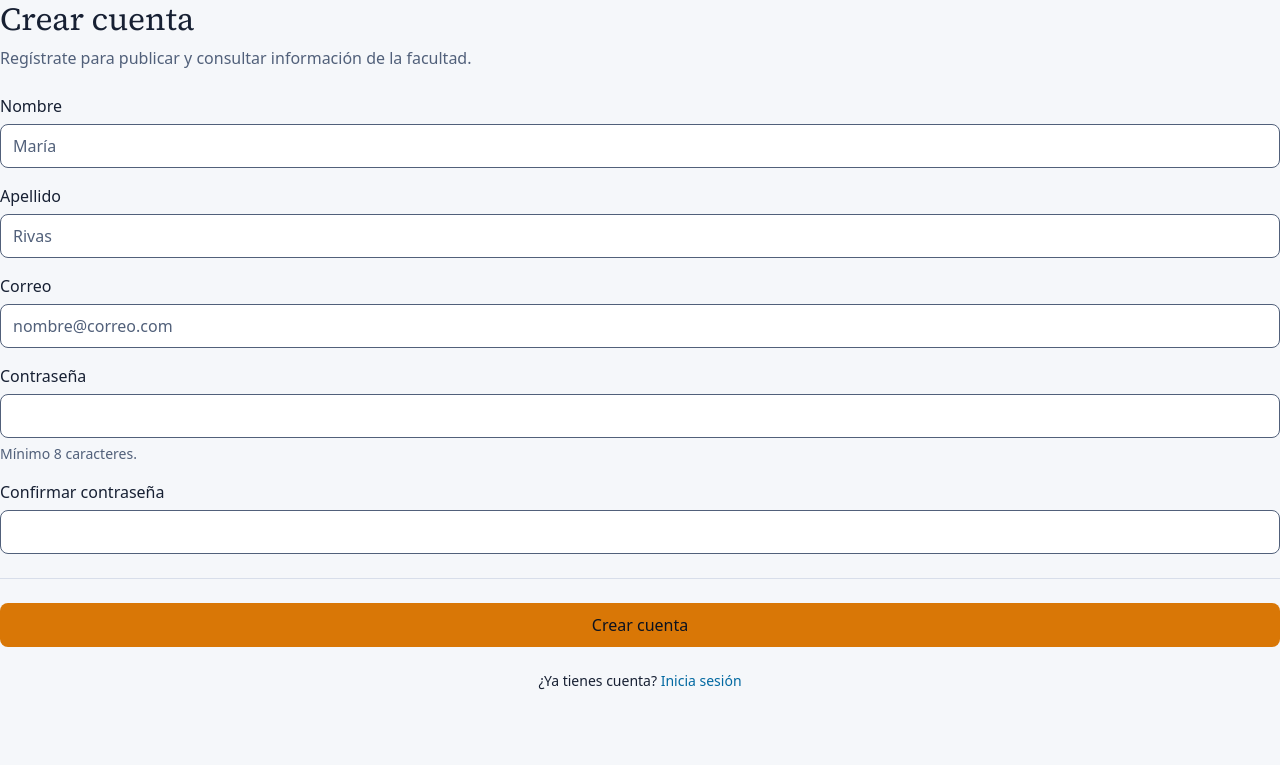
RegisterForm › handles existing email error without emptying password
Type "John" into the field labelled "Nombre". click: (640, 146)
box: [0,124,1279,168]
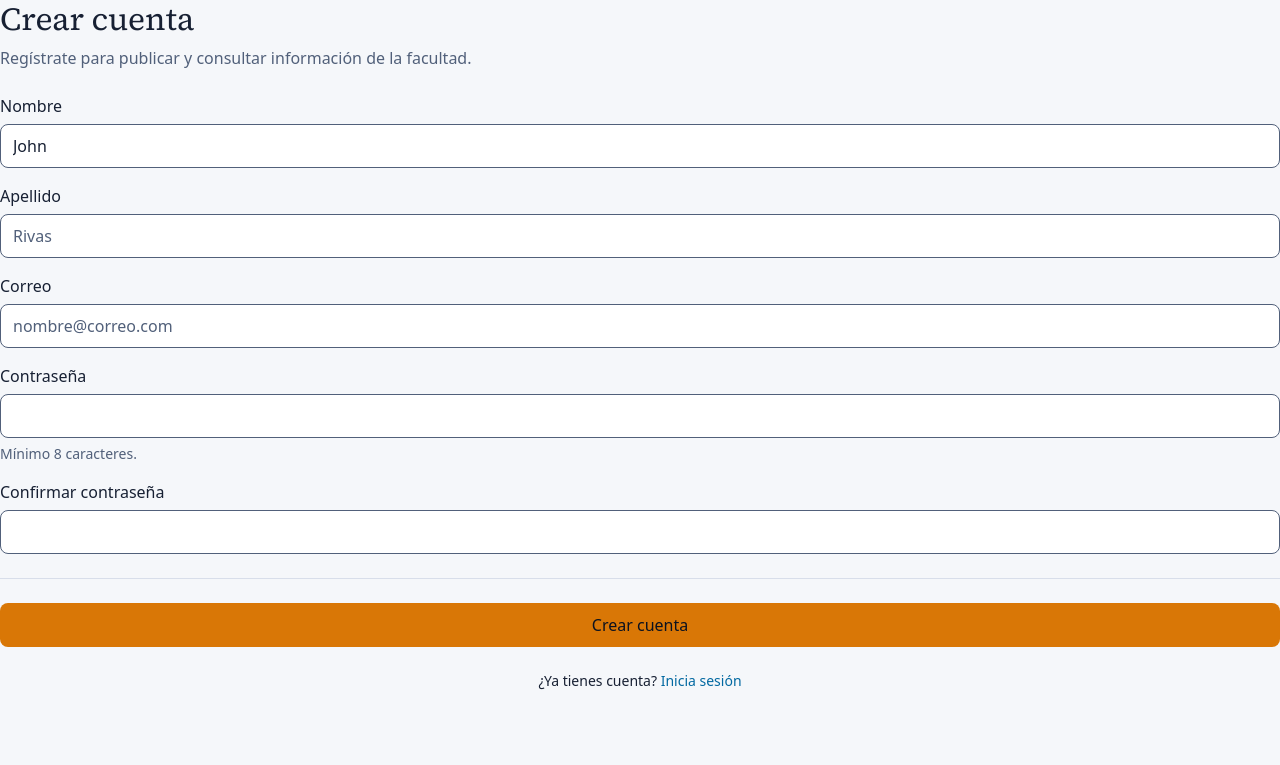
Type "Doe" into the field labelled "Apellido". click: (640, 236)
box: [0,214,1279,258]
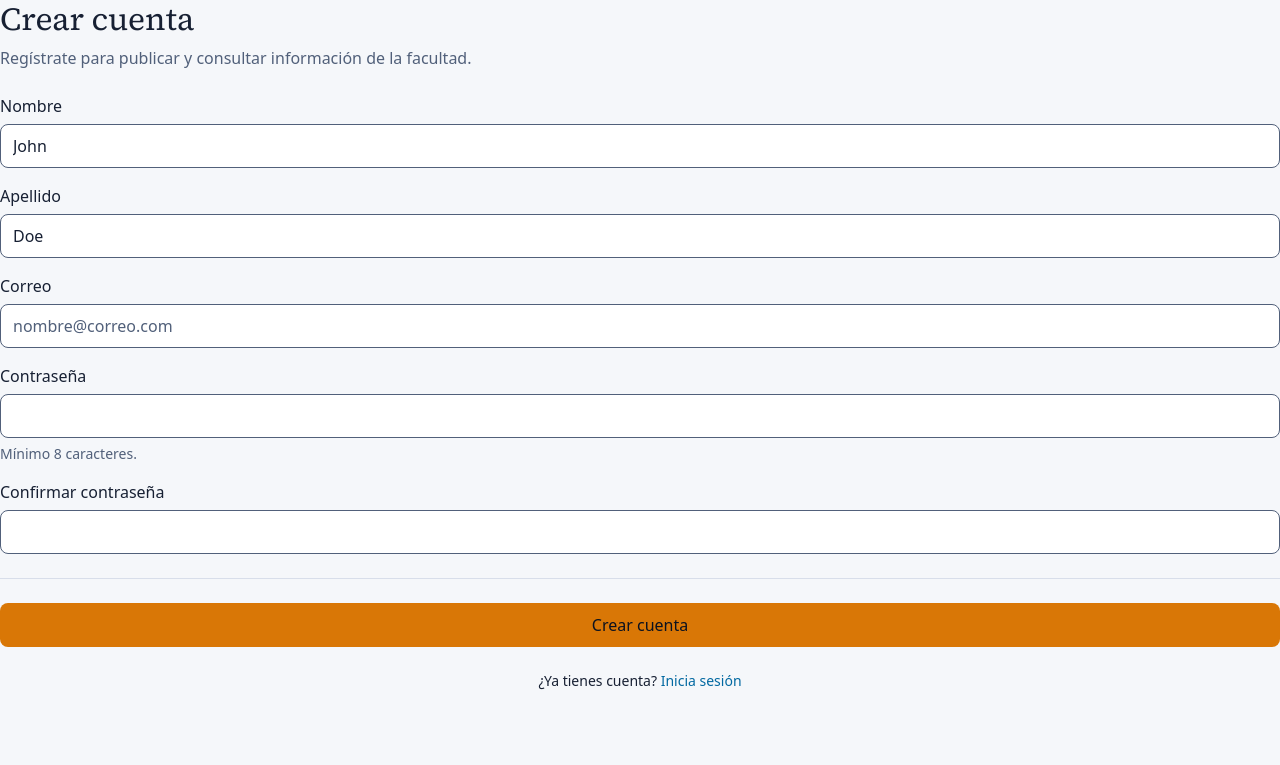
Type "existente@correo.com" into the field labelled "Correo". click: (640, 326)
box: [0,304,1279,348]
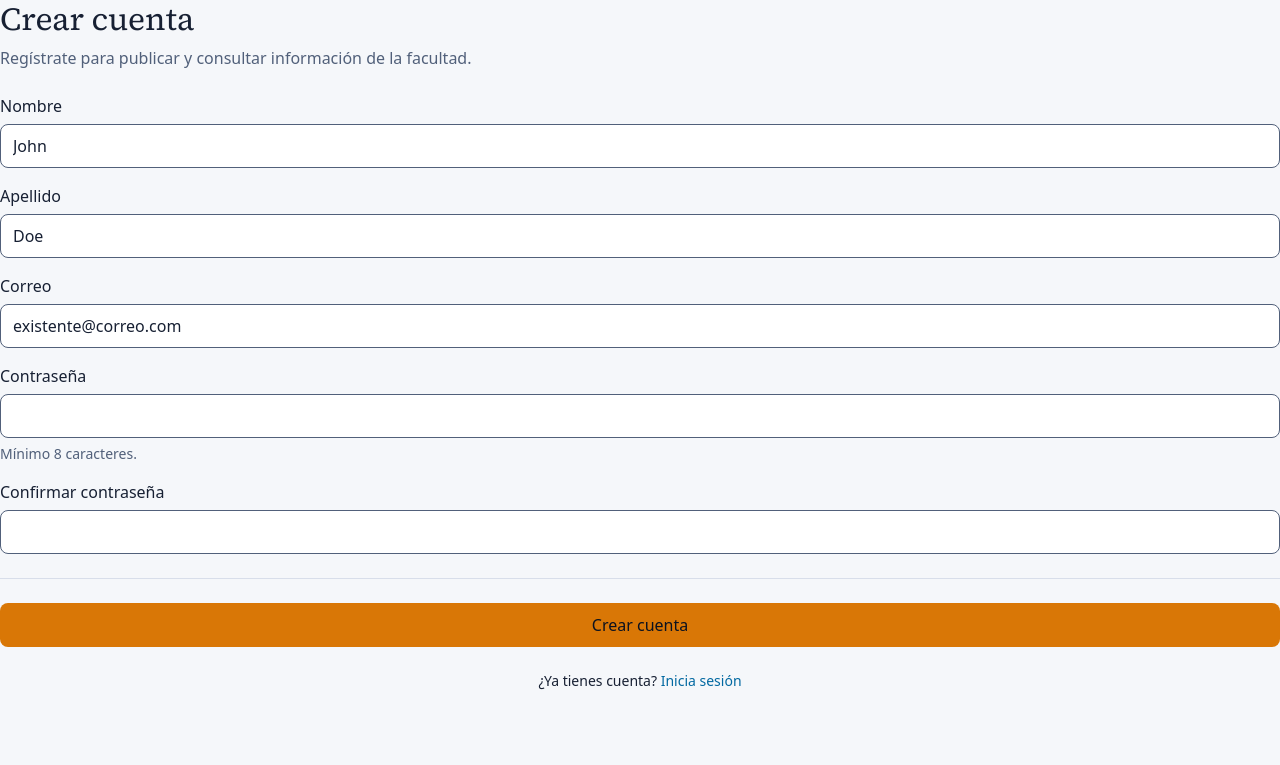
Type "password123" into the password field labelled "Contraseña". click: (640, 416)
box: [0,394,1279,438]
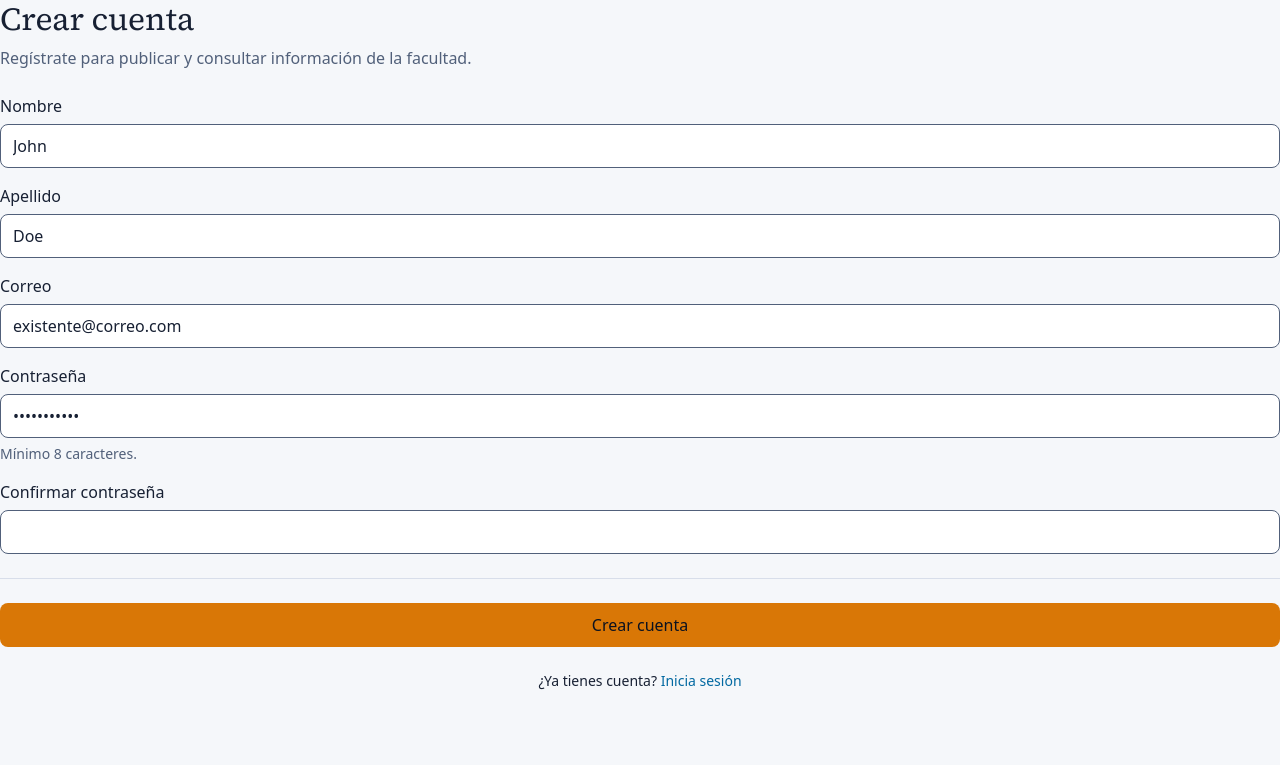
Type "password123" into the password field labelled "Confirmar contraseña". click: (640, 532)
box: [0,510,1279,554]
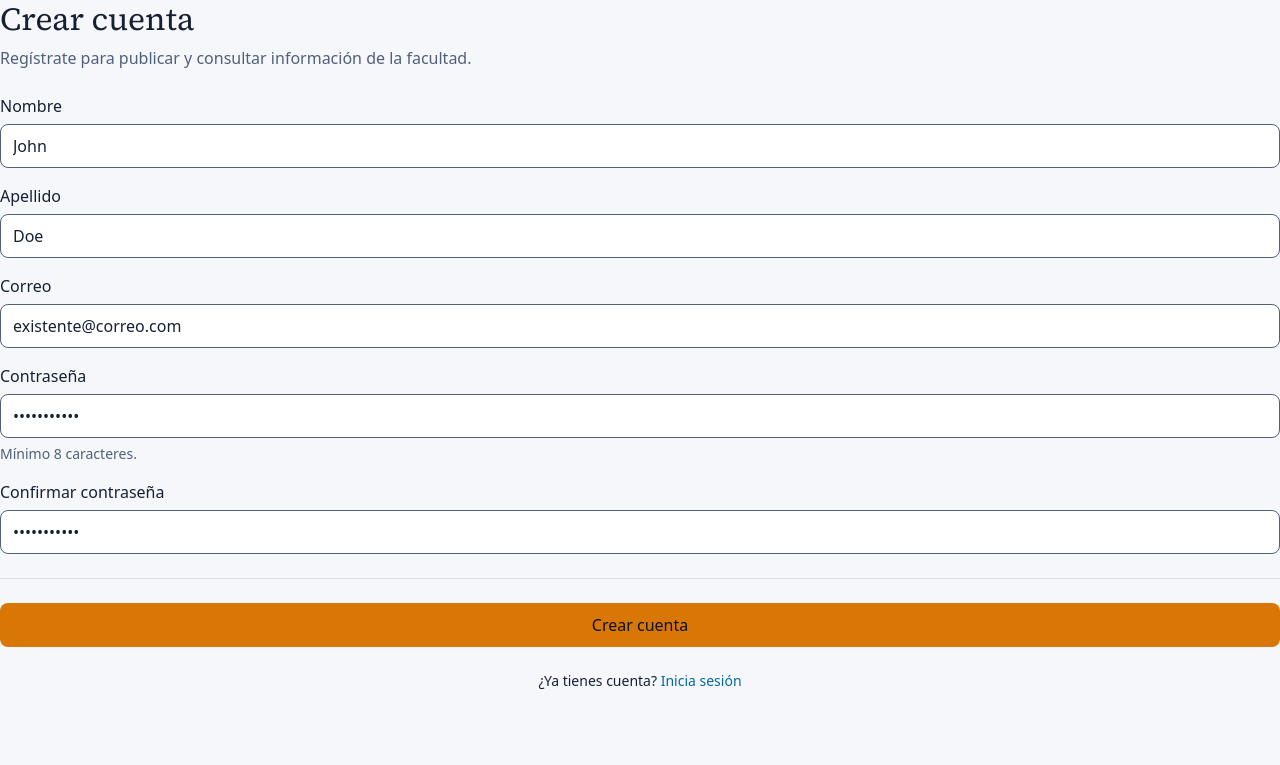
Click the button "Crear cuenta". click: (640, 625)
box: [0,603,1279,647]
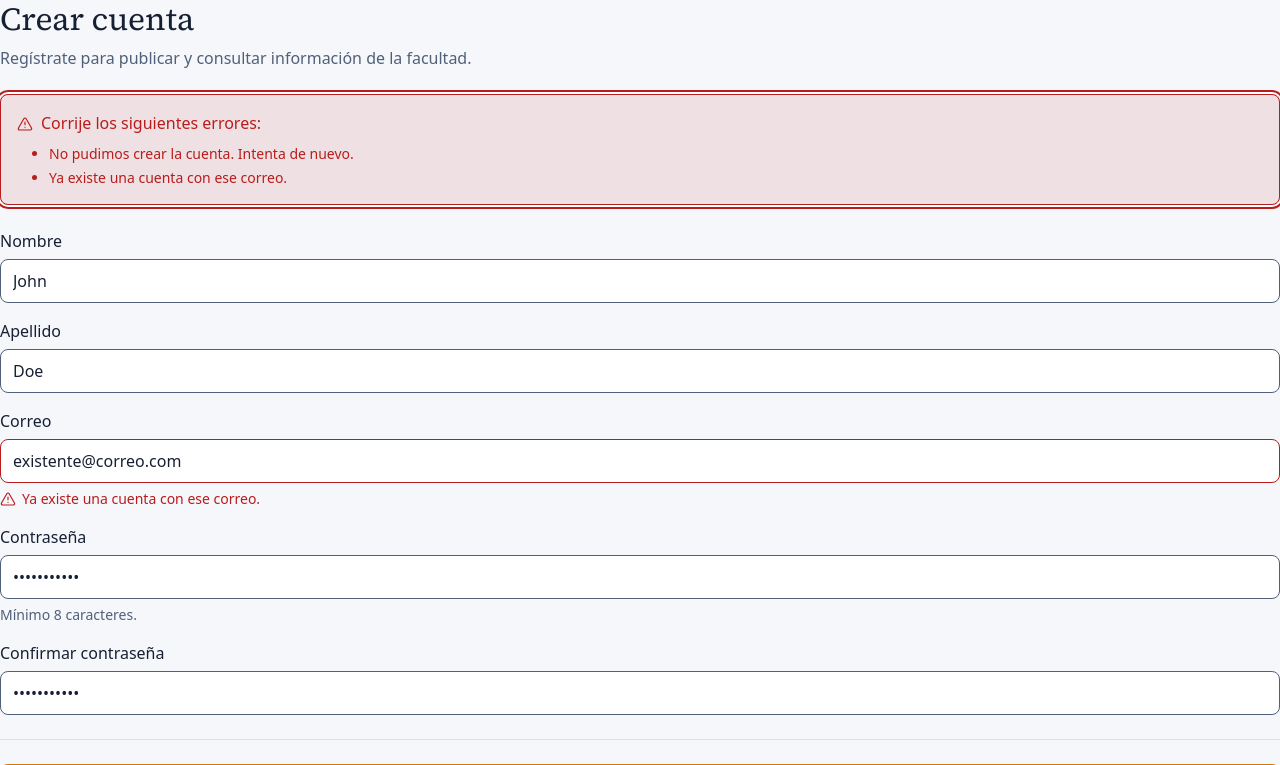
Now the message is shown, box [0,94,1279,205]
Now the list item "No pudimos crear la cuenta. Intenta de nuevo." is shown, box [49,144,354,163]
Now the button "Ya existe una cuenta con ese correo." is shown, box [49,168,287,188]
